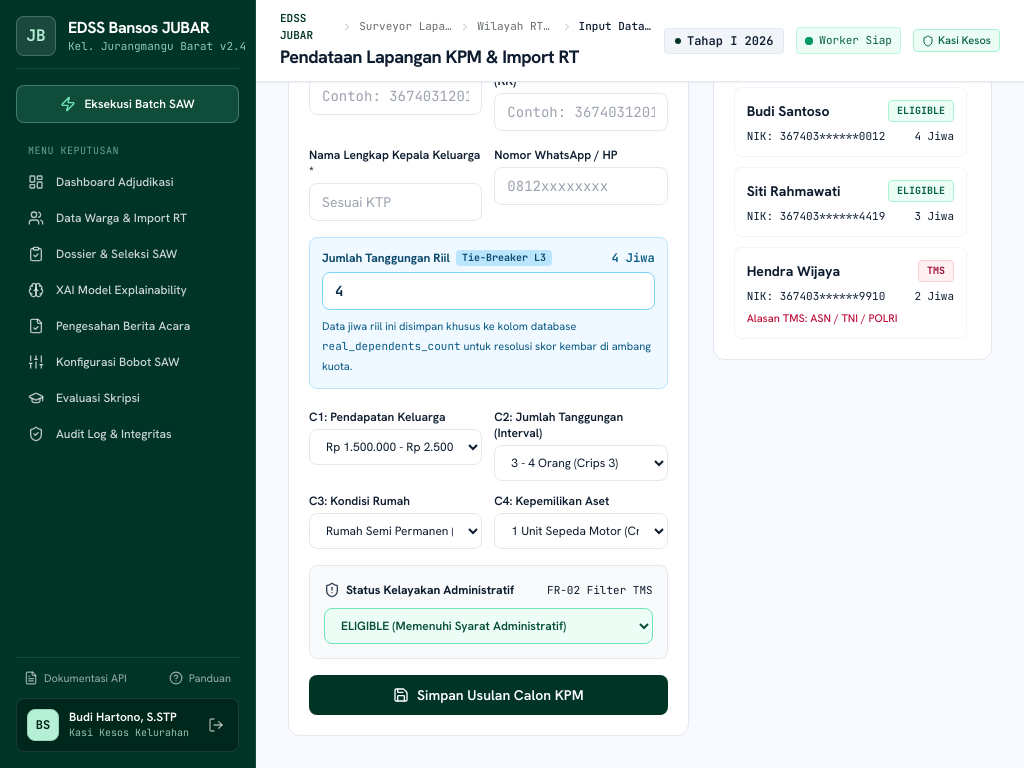
Test case: Admin & Surveyor Operational Screens (Milestone 4C) › 3. SurveyorInputPage › shows TMS disqualification reason select when status is DISQUALIFIED
The width and height of the screenshot is (1024, 768).
(page scrolled)
Select "DISQUALIFIED (Tidak Memenuhi Syarat - TMS)" in the dropdown labelled "Status Kelayakan Administratif" at (488, 626), box [324, 608, 653, 644]
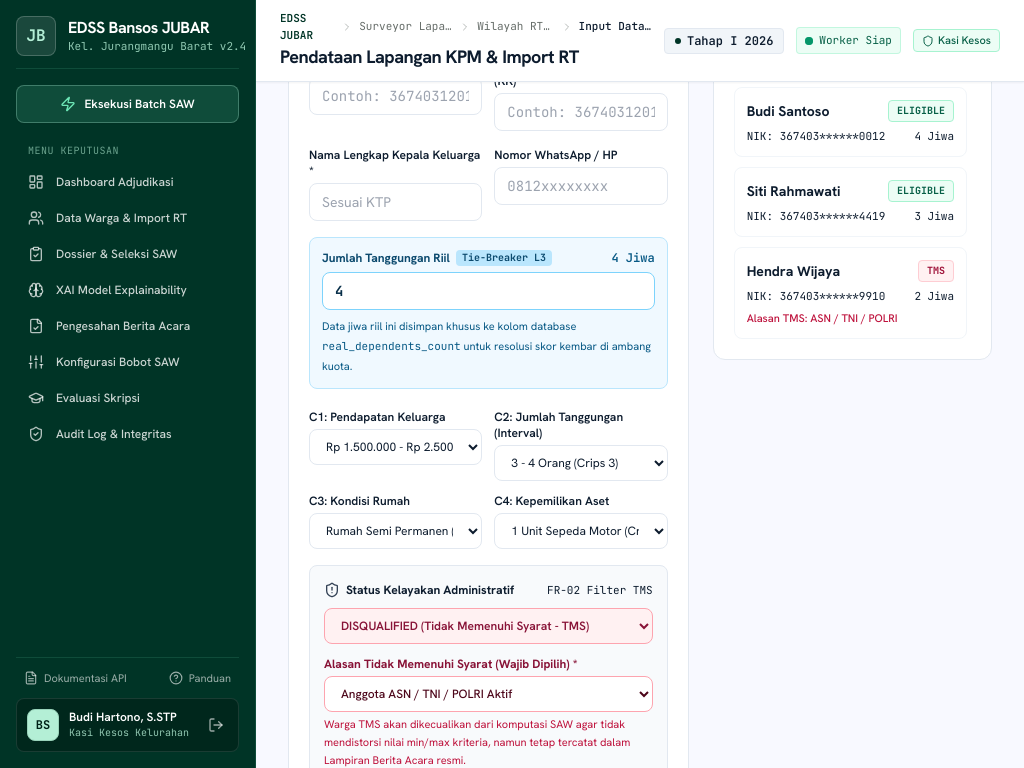
Result: the dropdown labelled "Alasan Tidak Memenuhi Syarat (Wajib Dipilih) *" is shown at [324, 676, 653, 712]
